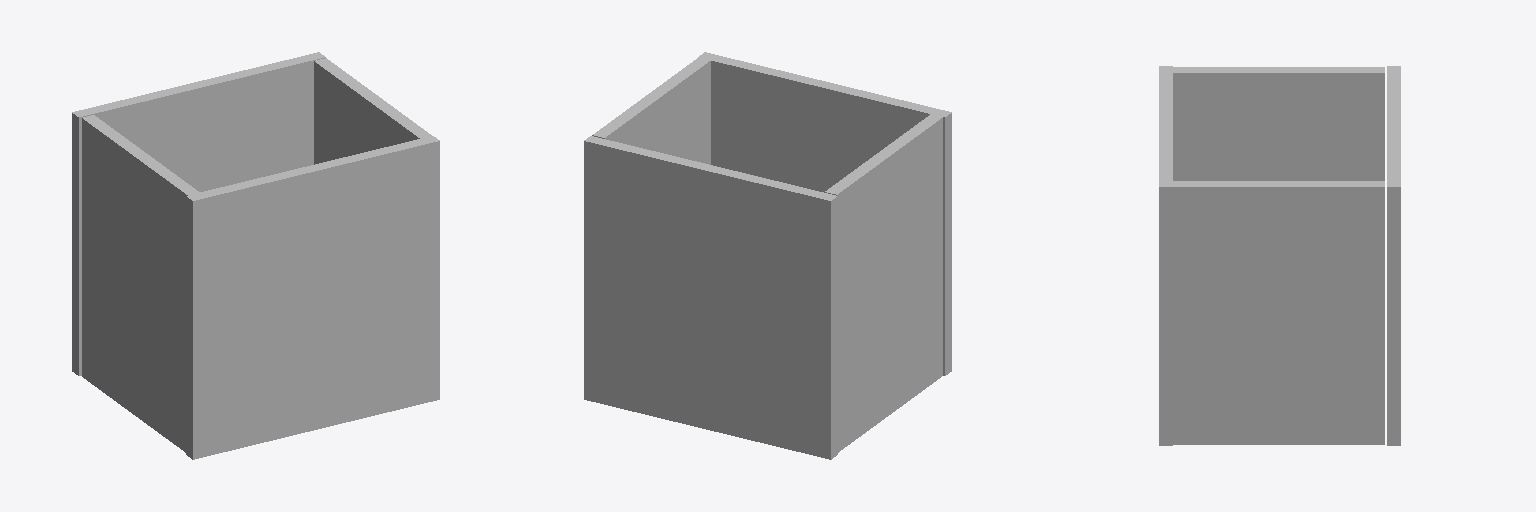
File: left_wall.obj
The picture shows the model from 3 angles: view 1: azimuth 30°, elevation 25°; view 2: azimuth 150°, elevation 25°; view 3: azimuth 270°, elevation 25°; orthographic projection.
Parts seen in each view (by area): view 1: Cube, Cube.002, Cube.003, Cube.001; view 2: Cube.003, Cube.002, Cube, Cube.001; view 3: Cube.001, Cube.002, Cube.003, Cube.
Boxes of the visible parts, <box> form: Cube: <box>186,136,439,459</box>; Cube.002: <box>82,115,199,452</box>; Cube.003: <box>72,52,325,375</box>; Cube.001: <box>314,58,431,164</box>; Cube.003: <box>584,136,837,459</box>; Cube.002: <box>825,114,943,452</box>; Cube: <box>699,52,951,375</box>; Cube.001: <box>592,57,710,164</box>; Cube.001: <box>1171,181,1384,444</box>; Cube.002: <box>1171,67,1384,180</box>; Cube.003: <box>1387,66,1400,445</box>; Cube: <box>1159,66,1172,445</box>.
Size of the model in its own units: 2 by 2 by 1.7.